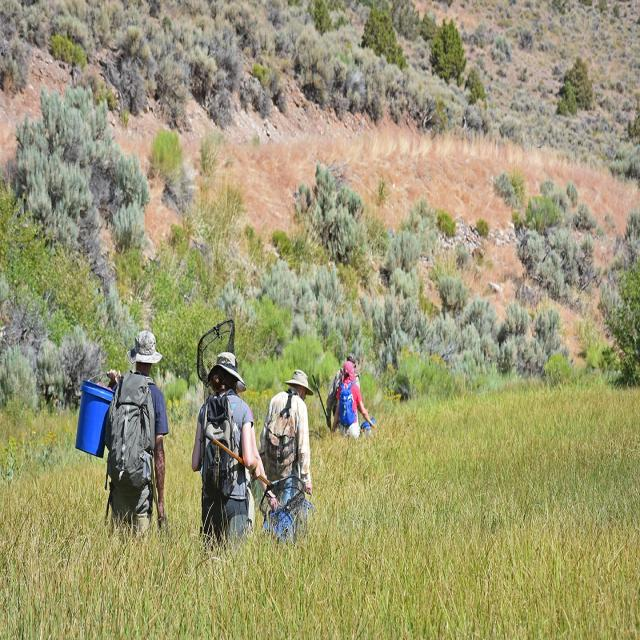body: (191, 350, 261, 568), (106, 329, 170, 534), (258, 368, 314, 509), (248, 406, 281, 514), (330, 359, 370, 440), (326, 353, 360, 431)
